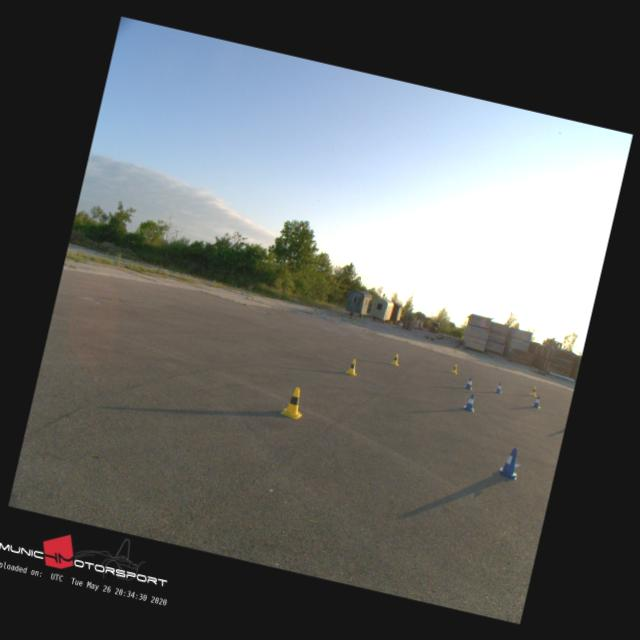blue_cone: (497, 443, 522, 479), (462, 392, 477, 411), (464, 376, 474, 389), (493, 381, 503, 394), (532, 395, 542, 408)
yellow_cone: (280, 384, 308, 419), (344, 358, 358, 374), (390, 352, 400, 365), (529, 385, 537, 396), (451, 362, 458, 372)
